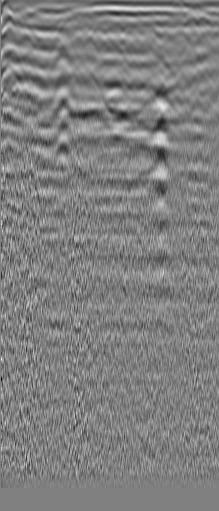오수: (16, 26, 36, 46)
우수: (173, 26, 193, 46)
